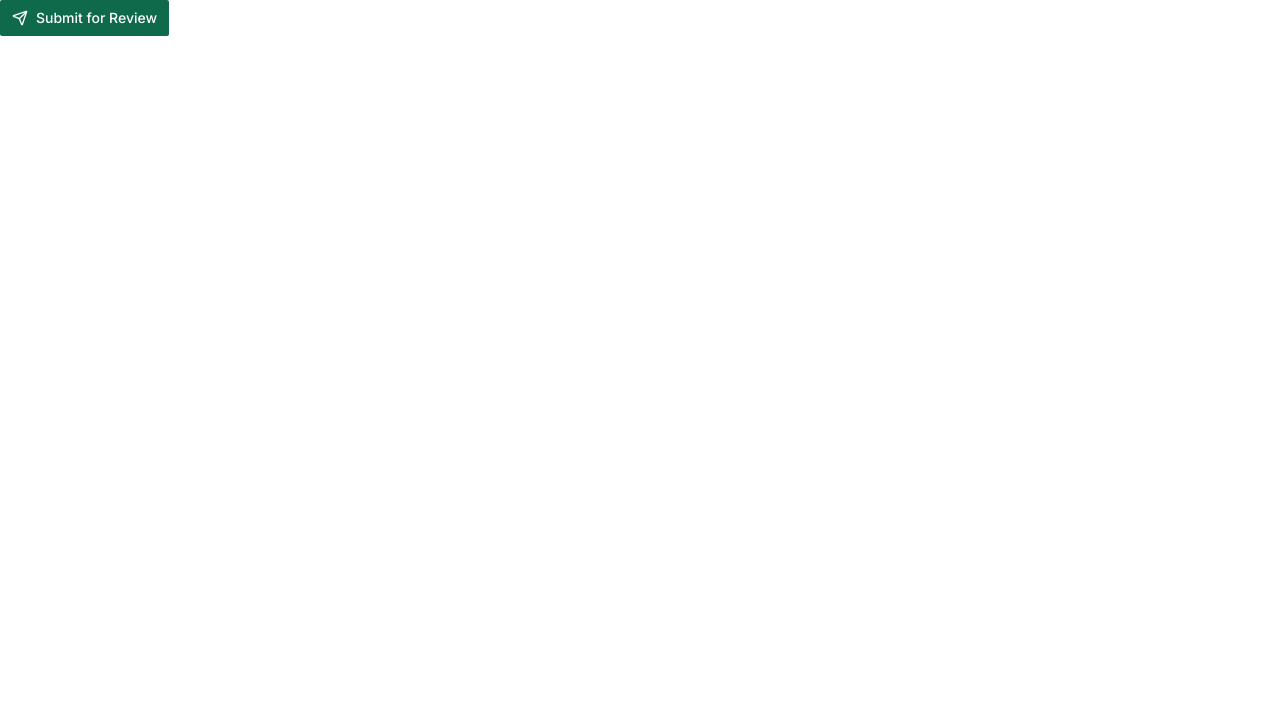
Test case: Submit for Review › explains the automatic review, the developer fallback and that approved changes go public
Click the button "Submit for Review": x=85, y=18 [0,0,169,36]
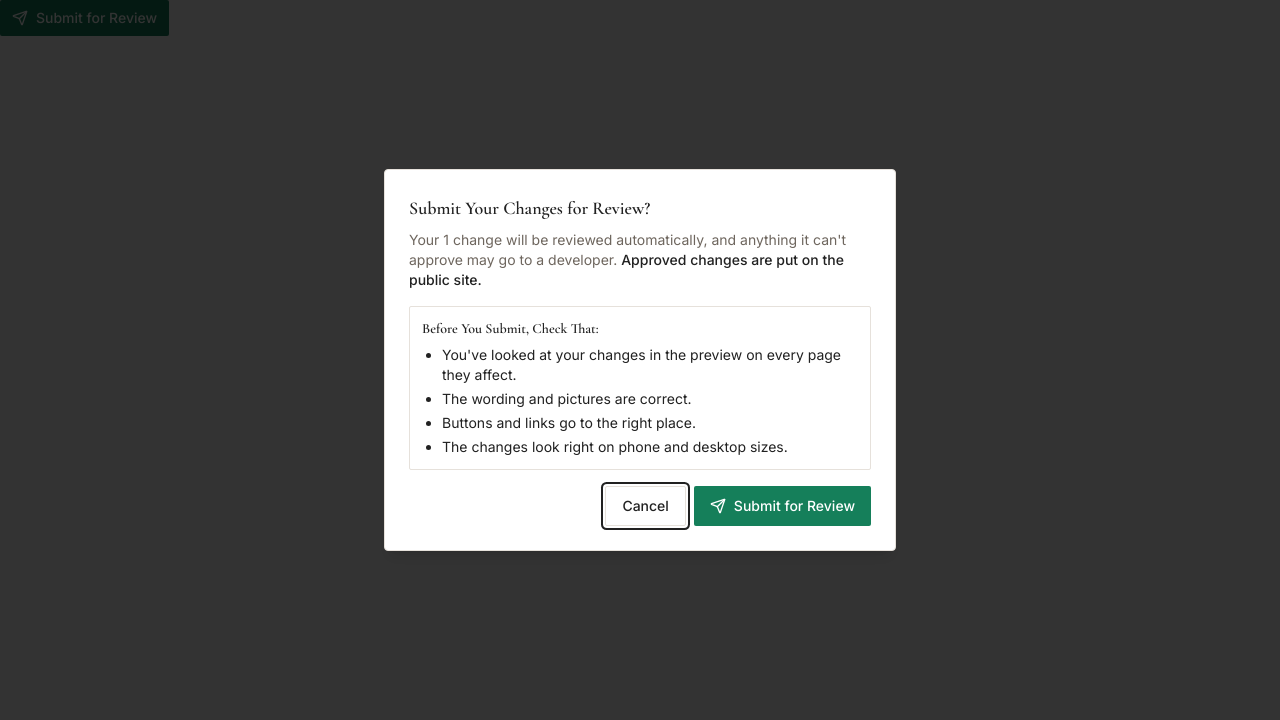
Now the dialog shows "Your 1 change will be reviewed automatically", box [384,169,896,551]
Now the dialog shows "anything it can't approve may go to a developer", box [409,231,846,268]
Now the dialog shows "Approved changes are put on the public site.", box [409,251,844,288]
